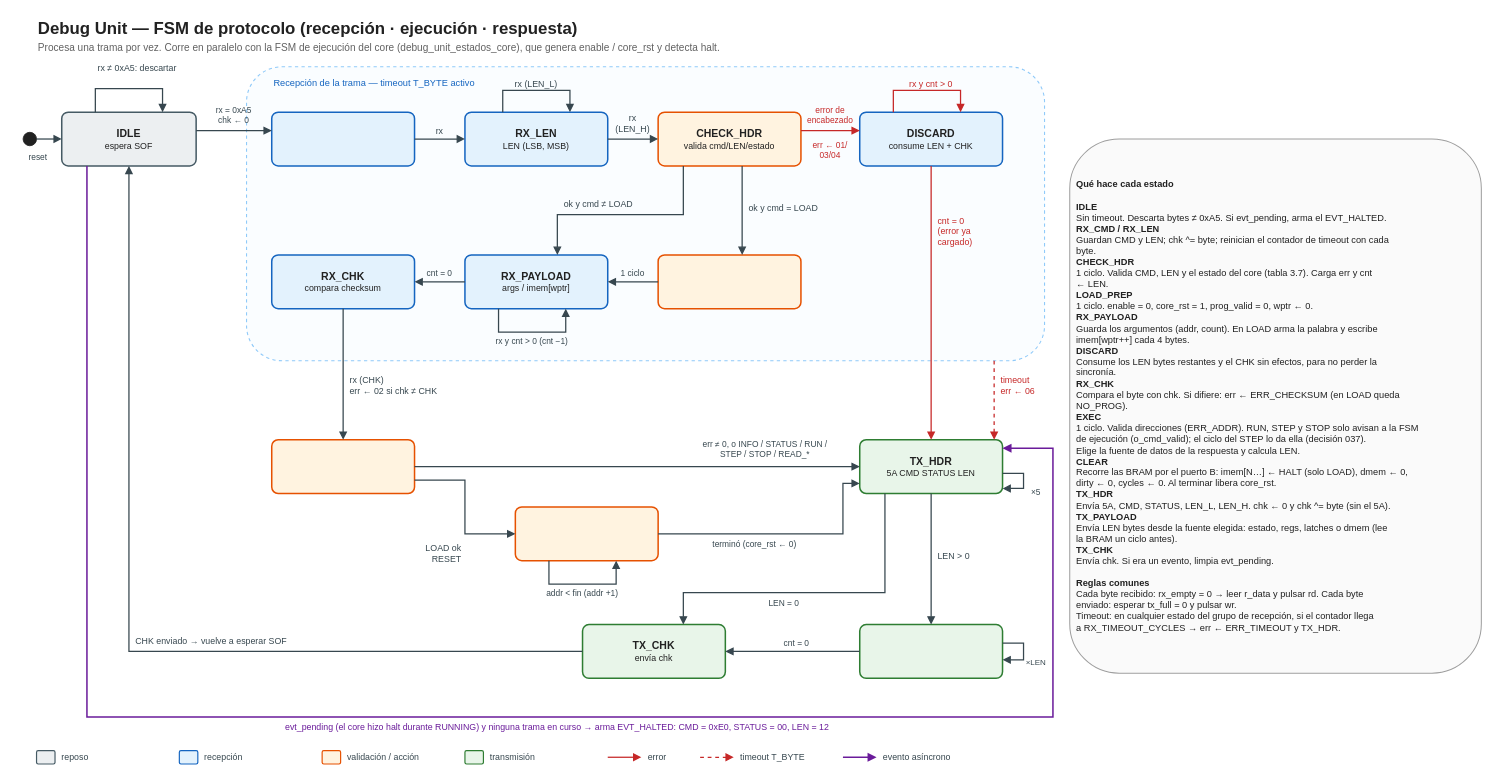
This 1496x779 diagram has some shape labels left out. Each missing label, with the centre of its shape:
CLEAR recorre BRAM (puerto B): (x=586, y=533)
EXEC despacha comando: (x=343, y=466)
LOAD_PREP para y resetea core: (x=729, y=281)
RX_CMD cmd ← byte: (x=343, y=138)
TX_PAYLOAD LEN bytes: (x=931, y=651)
